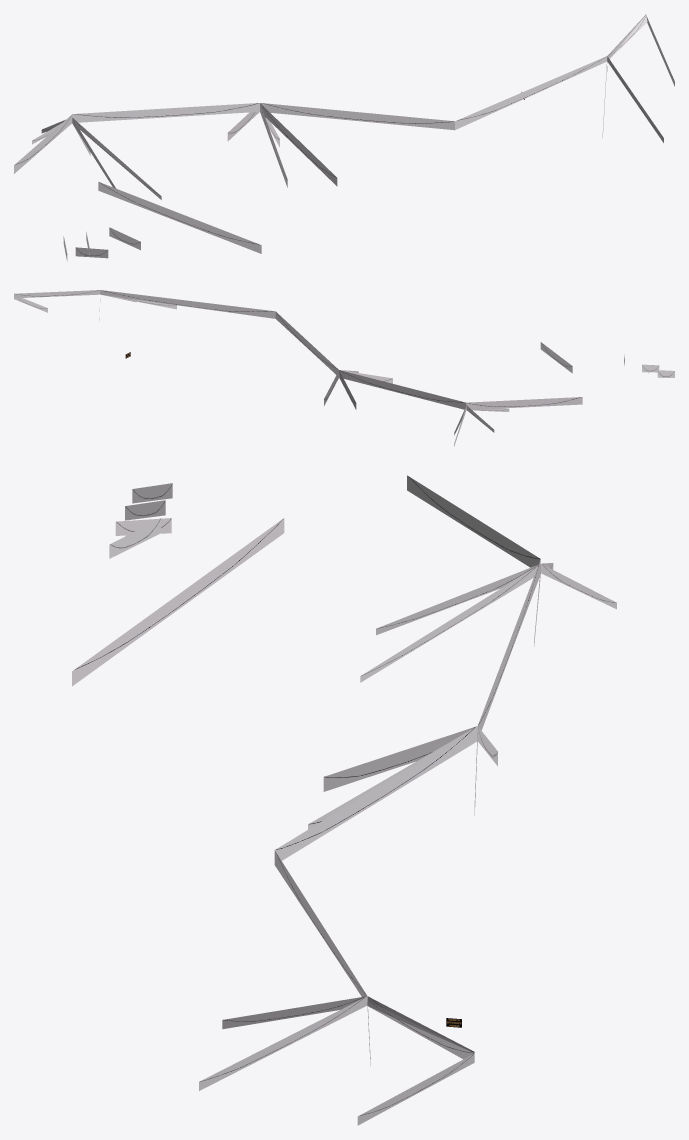
File: lawnwires01.obj
3 renders of one model, top to bottom at view 1: azimuth 30°, elevation 25°; view 2: azimuth 150°, elevation 25°; view 3: azimuth 270°, elevation 25°, orthographic. The views are drawn at different scales.
Visible parts, largest first — view 1: lawnwires01; view 2: lawnwires01; view 3: lawnwires01.
Part boxes in pixels (<box>): lawnwires01: <box>14,14,674,261</box>; lawnwires01: <box>14,290,674,446</box>; lawnwires01: <box>72,475,616,1125</box>.
Bounding box in the file's own units: 237 × 25.67 × 97.41.
